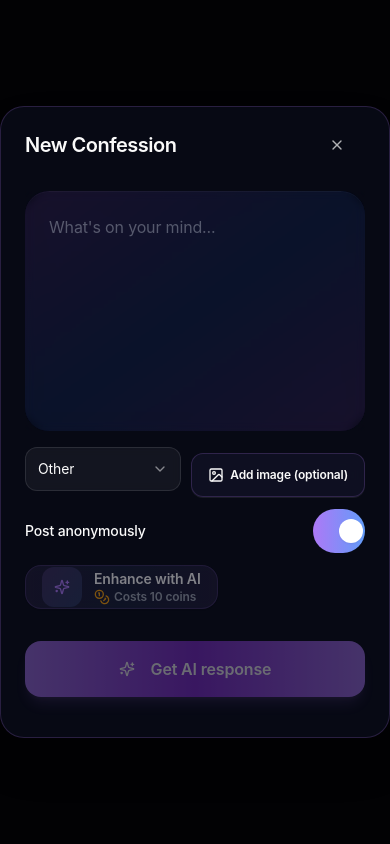
Scenario: Anonymity Control › allows toggling anonymity on and off
Click the switch.
click(339, 531)  # box [313, 509, 365, 553]
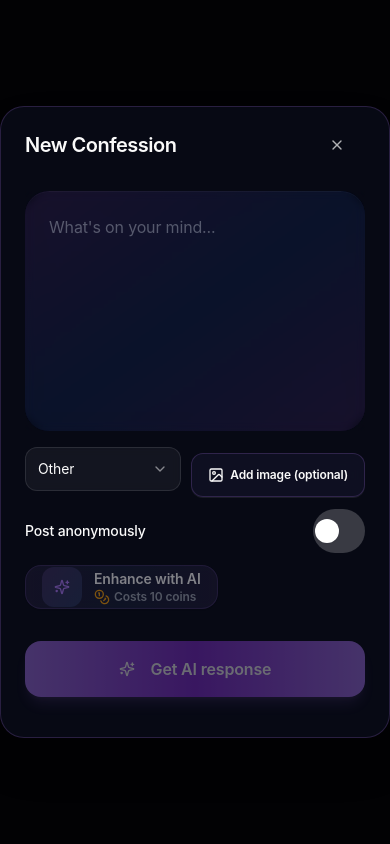
Expected: the switch is not checked
Click the switch.
click(339, 531)  # box [313, 509, 365, 553]
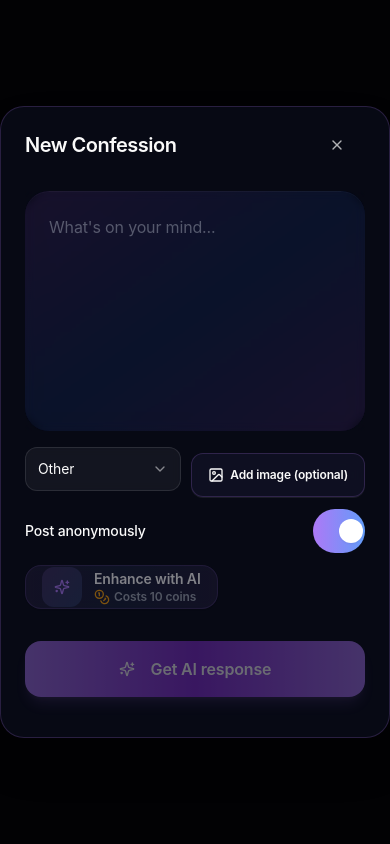
Expected: the switch is checked, [313, 509, 365, 553]
